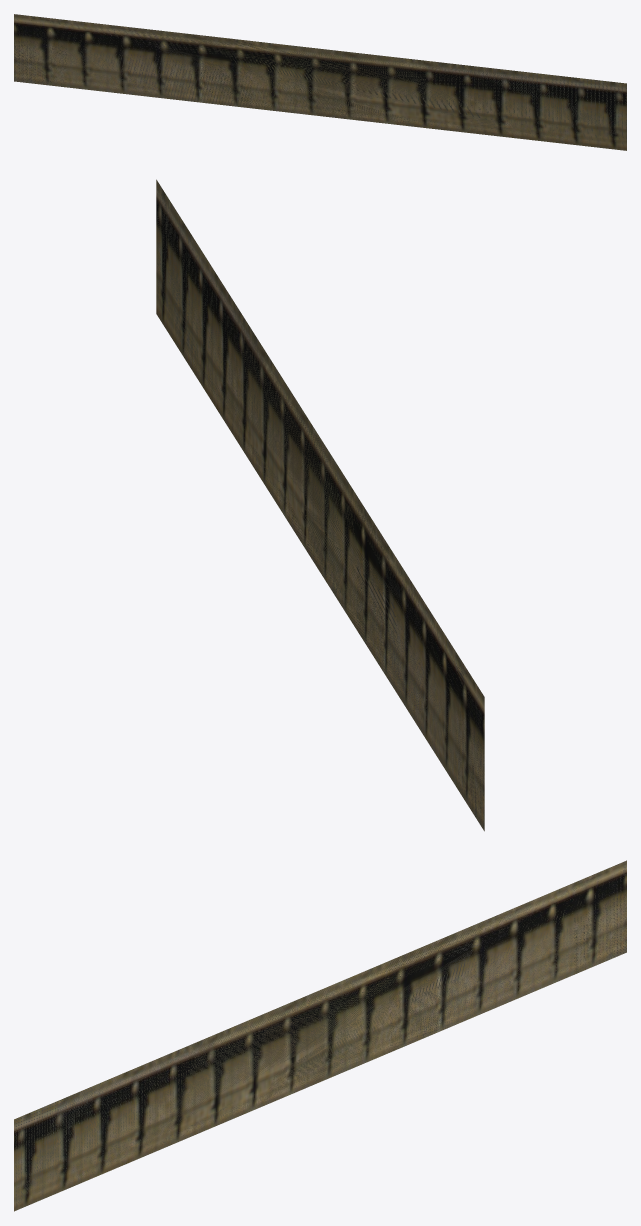
Rendered from 埃菲尔铁塔13.dae.
The picture shows the model from 3 angles, top to bottom: view 1: azimuth 30°, elevation 25°; view 2: azimuth 150°, elevation 25°; view 3: azimuth 270°, elevation 25°; orthographic projection. The views are drawn at different scales.
Visible parts, largest first — view 1: SketchUp; view 2: SketchUp; view 3: SketchUp.
Part boxes in pixels (<box>): SketchUp: <box>14,14,626,150</box>; SketchUp: <box>156,179,484,831</box>; SketchUp: <box>14,860,626,1211</box>.
Size of the model in its own units: 2005 by 2005 by 332.
